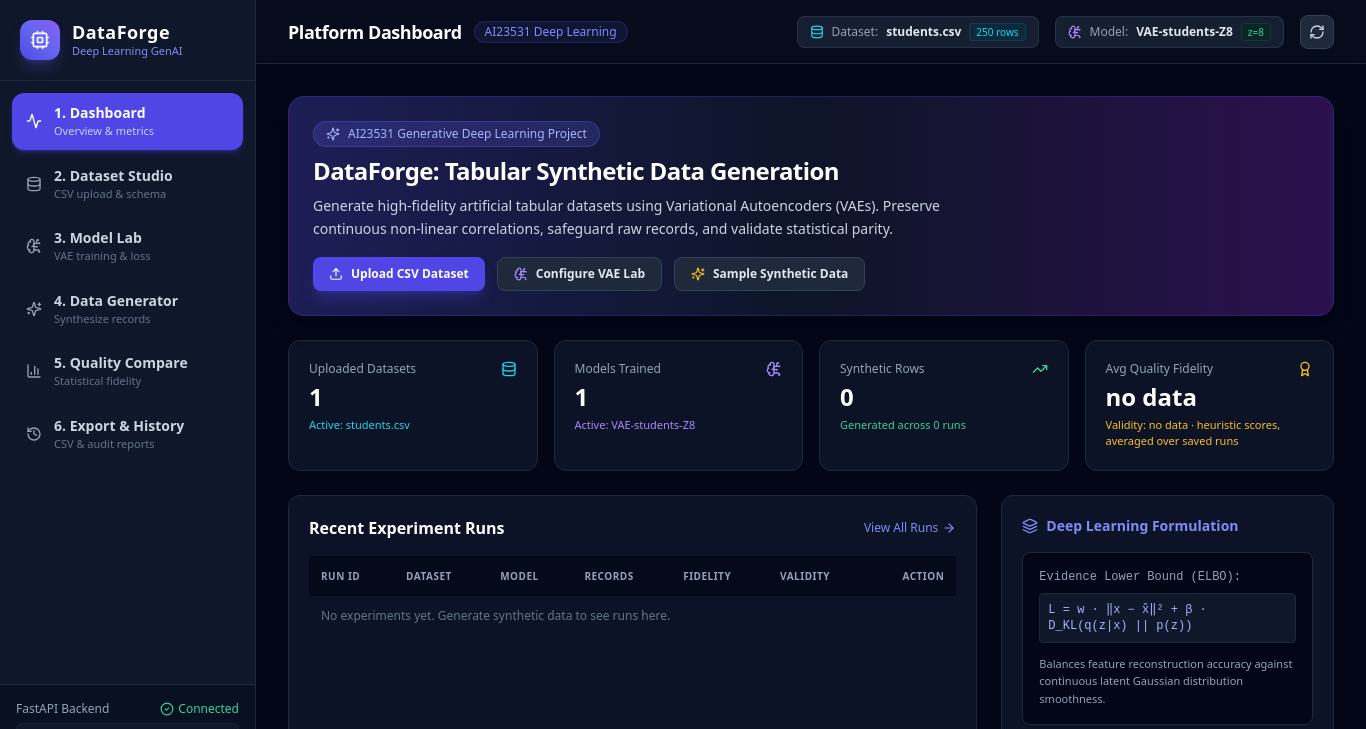
Test: navigation › opens every page from the sidebar and highlights the active one
Click the button "2. Dataset Studio CSV upload & schema".
click(128, 184)  # box [12,156,243,212]
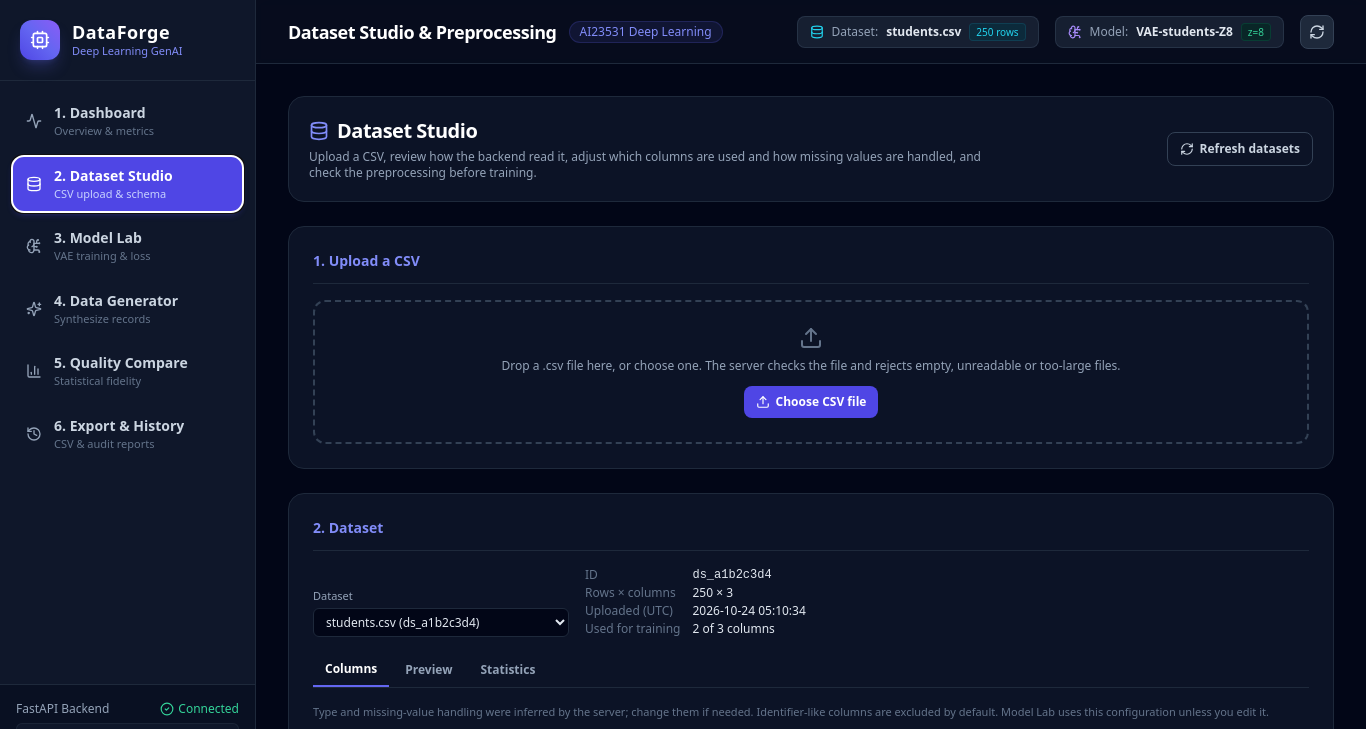
Expected: the heading "Dataset Studio" is shown, [309,117,477,144]
Click the button "3. Model Lab VAE training & loss".
click(128, 246)  # box [12,218,243,274]
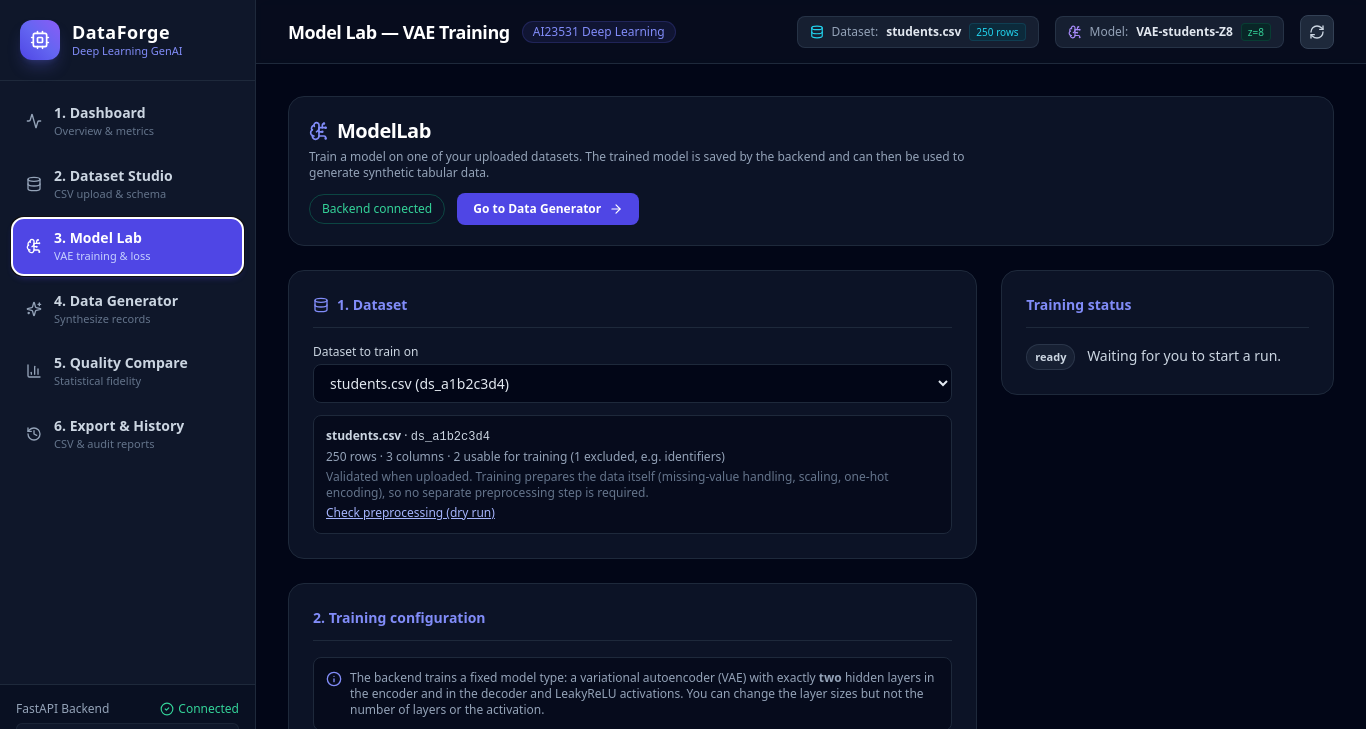
Expected: the heading "ModelLab" is shown, [309,117,431,144]
Click the button "4. Data Generator Synthesize records".
click(128, 309)  # box [12,280,243,337]
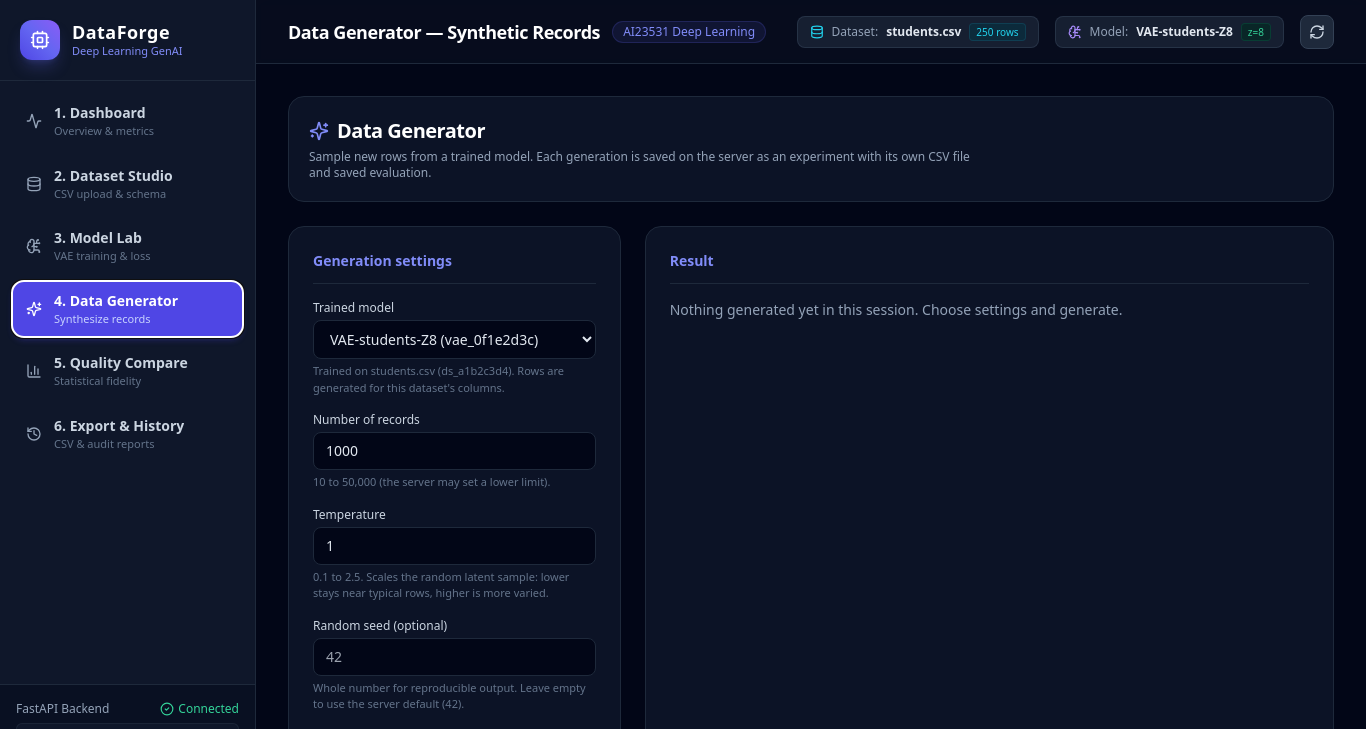
Expected: the heading "Data Generator" is shown, [309,117,485,144]
Click the button "5. Quality Compare Statistical fidelity".
click(128, 371)  # box [12,343,243,400]
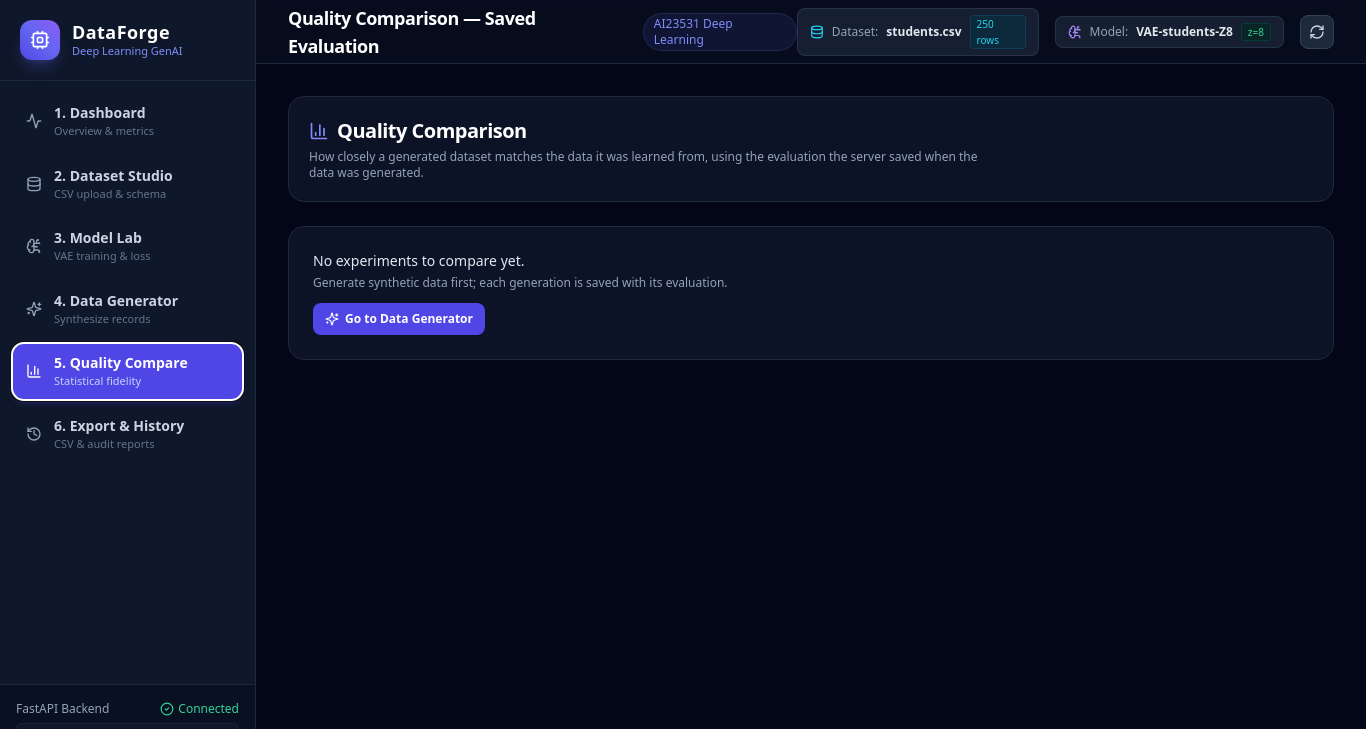
Expected: the heading "Quality Comparison" is shown, [309,117,527,144]
Click the button "6. Export & History CSV & audit reports".
click(128, 434)  # box [12,406,243,462]
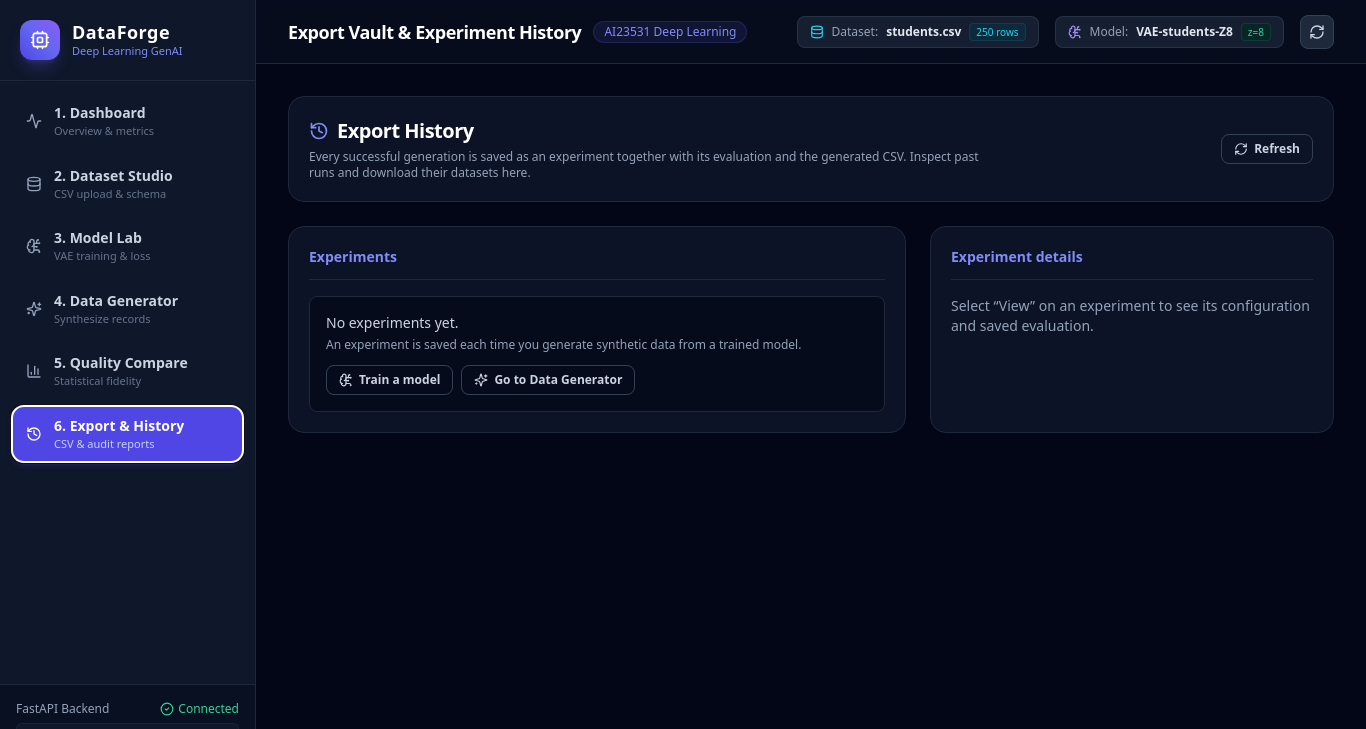
Expected: the heading "Export History" is shown, [309,117,474,144]
Click the button "1. Dashboard Overview & metrics".
click(128, 121)  # box [12,93,243,150]
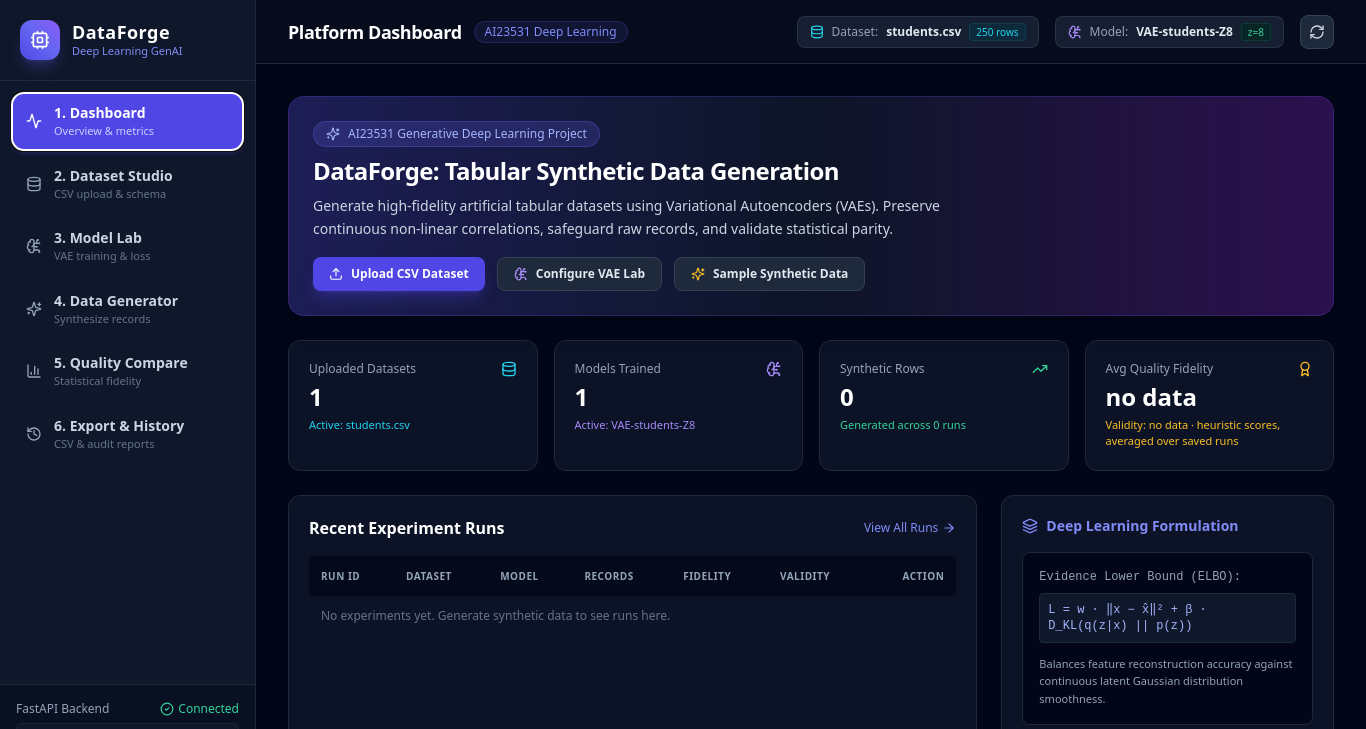
Expected: the heading "DataForge: Tabular Synthetic Data Generation" is shown, [313,154,839,187]
